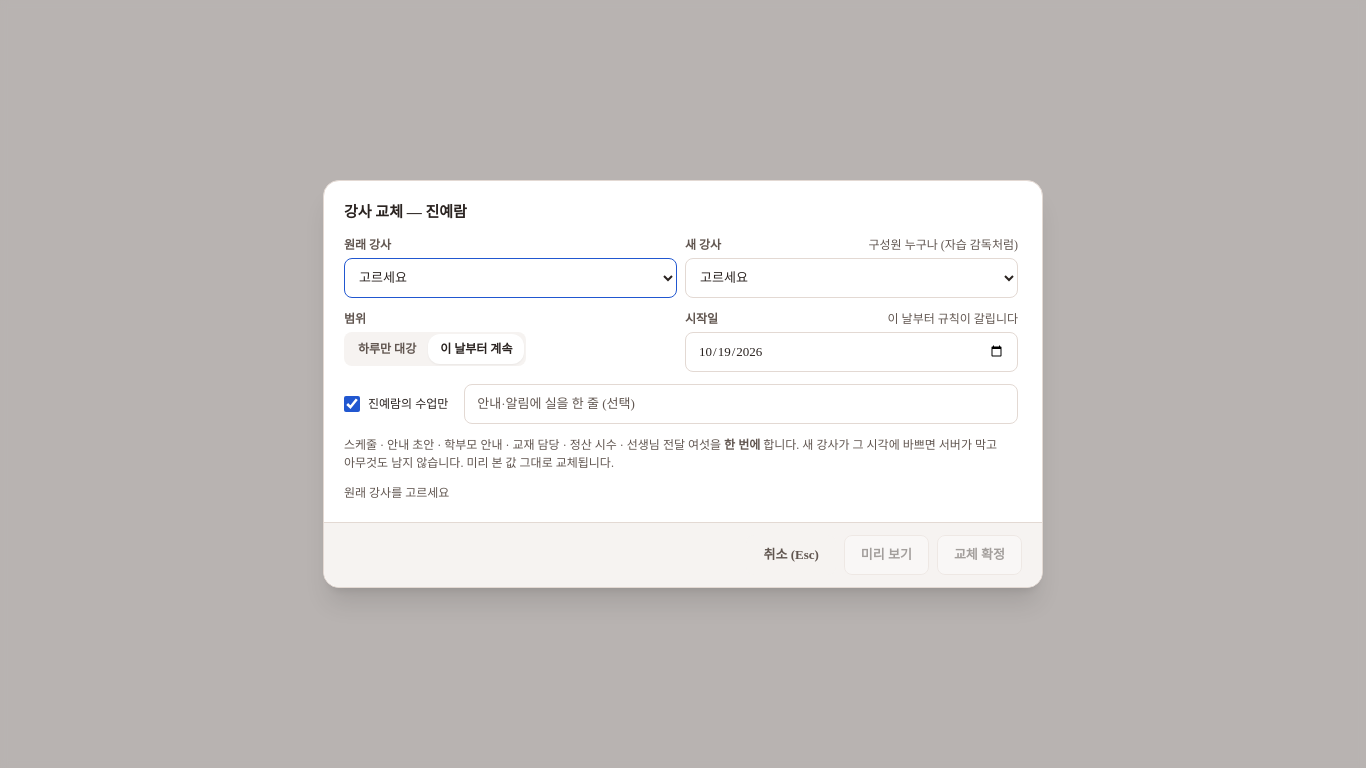
Test case: 하루만 대강은 날짜 하나로 보내고, 겹치면 서버 문장을 그대로 띄운 뒤 아는 수업으로 「누구와」를 한 번 묻는다 (N-132 · A-06)
This screenshot has width=1366, height=768.
Select "김재훈" in the dropdown labelled "원래 강사": (510, 278) 344,258 -> 677,298
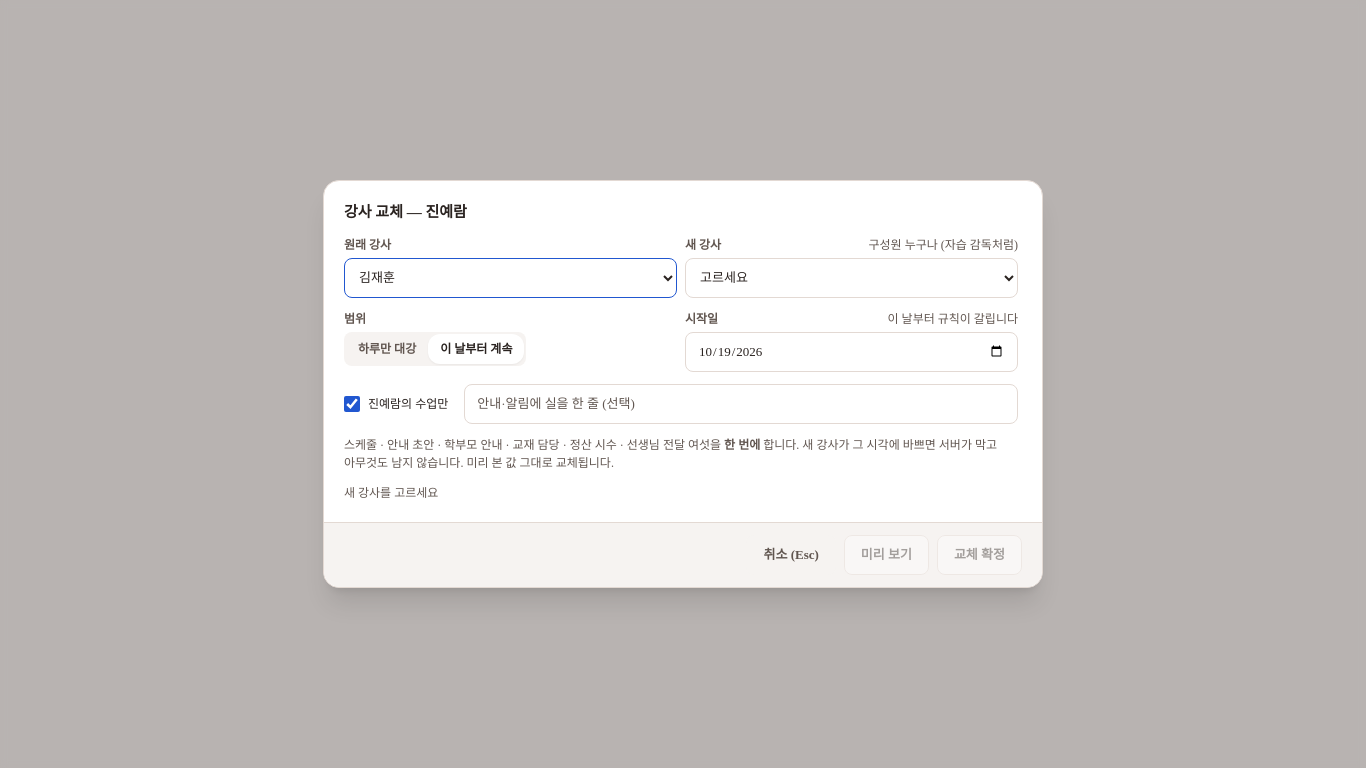
Select "김범준" in the dropdown labelled "새 강사": (852, 278) 685,258 -> 1018,298
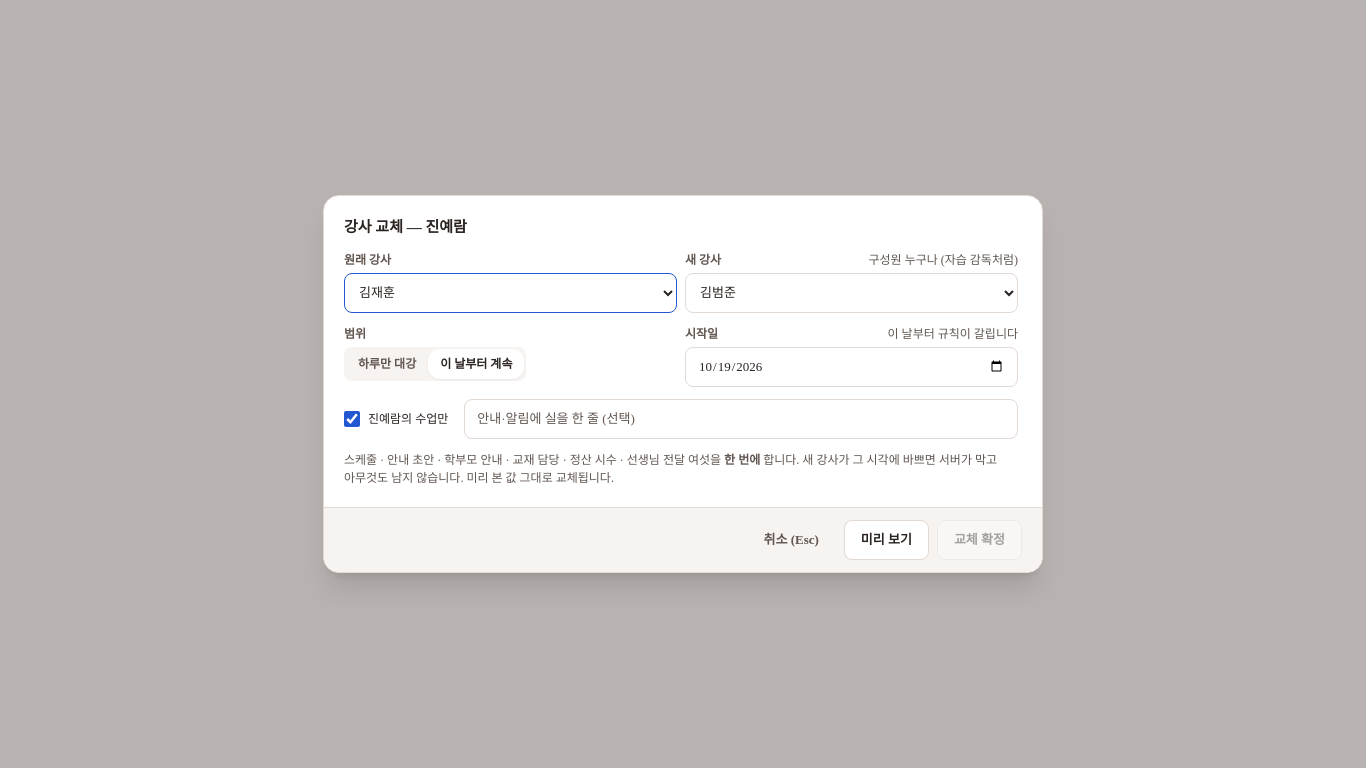
In the date field labelled "시작일": (852, 367) 685,347 -> 1018,387, type "2026-10-05"
Click the button "하루만 대강": (387, 364) 346,349 -> 428,379
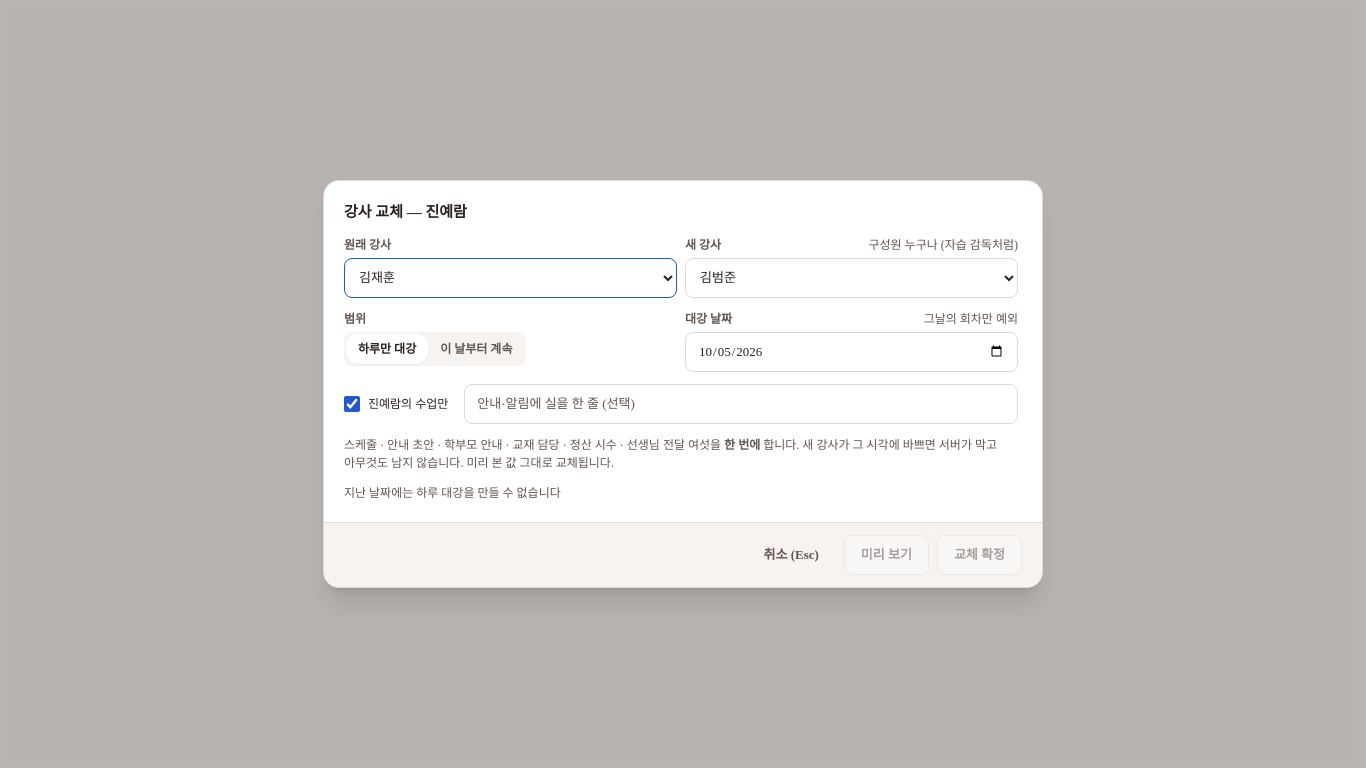
In the date field labelled "대강 날짜": (852, 352) 685,332 -> 1018,372, type "2026-10-19"
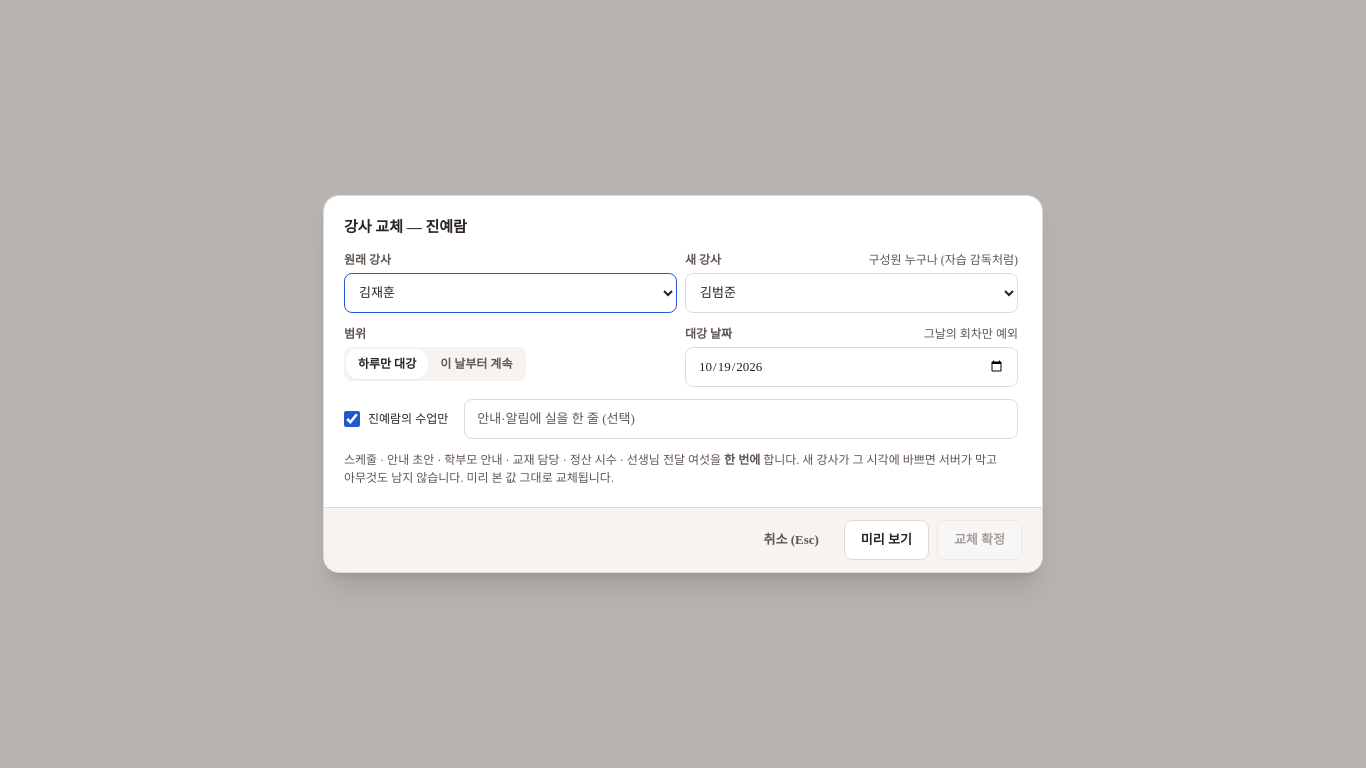
Click the button "미리 보기": (886, 540) 844,520 -> 929,560
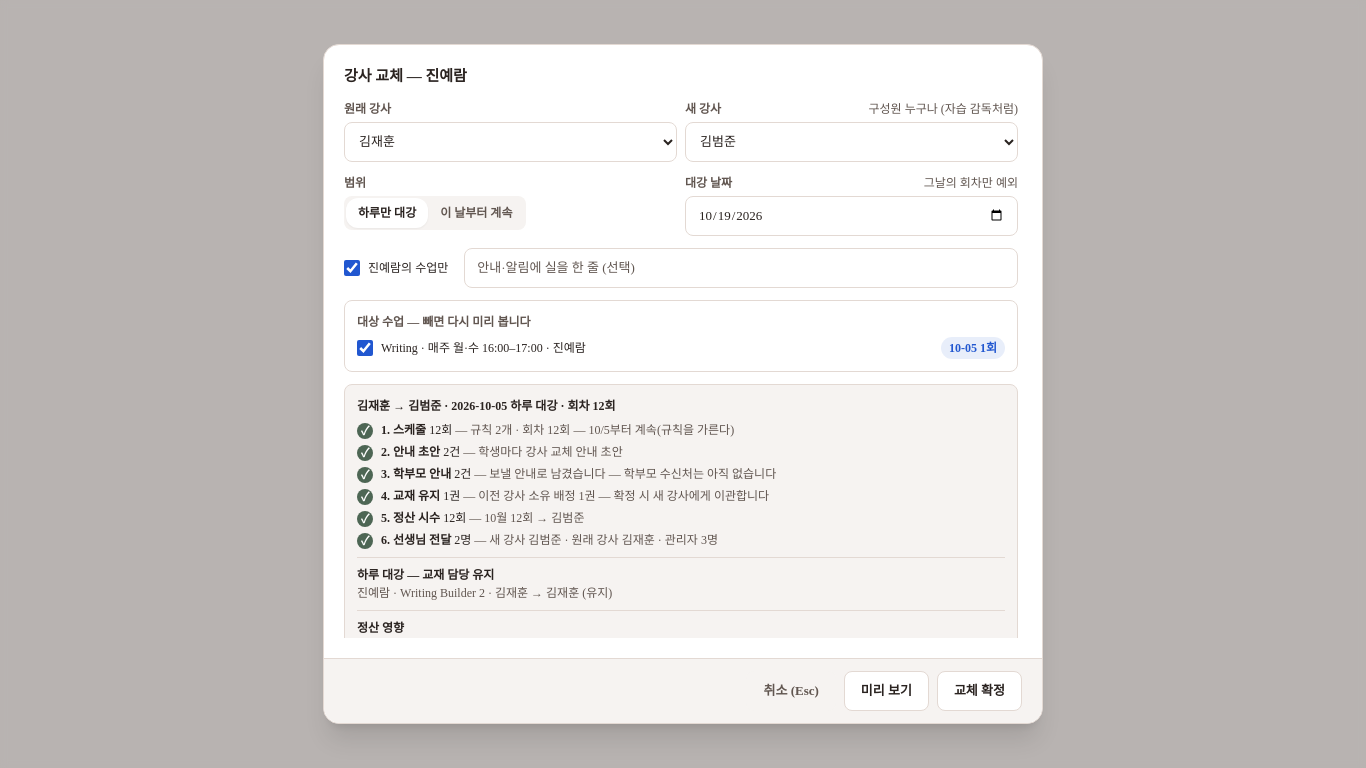
Expected: the element named "교체 미리보기" shows "하루 대강 — 교재 담당 유지", 357,568 -> 494,582
Expected: the element named "교체 미리보기" shows "Writing Builder 2 · 김재훈 → 김재훈 (유지)", 357,586 -> 612,600
In the field named "메모": (741, 268) 464,248 -> 1018,288, type "아침에 연락"
Click the button "미리 보기": (886, 690) 844,670 -> 929,710
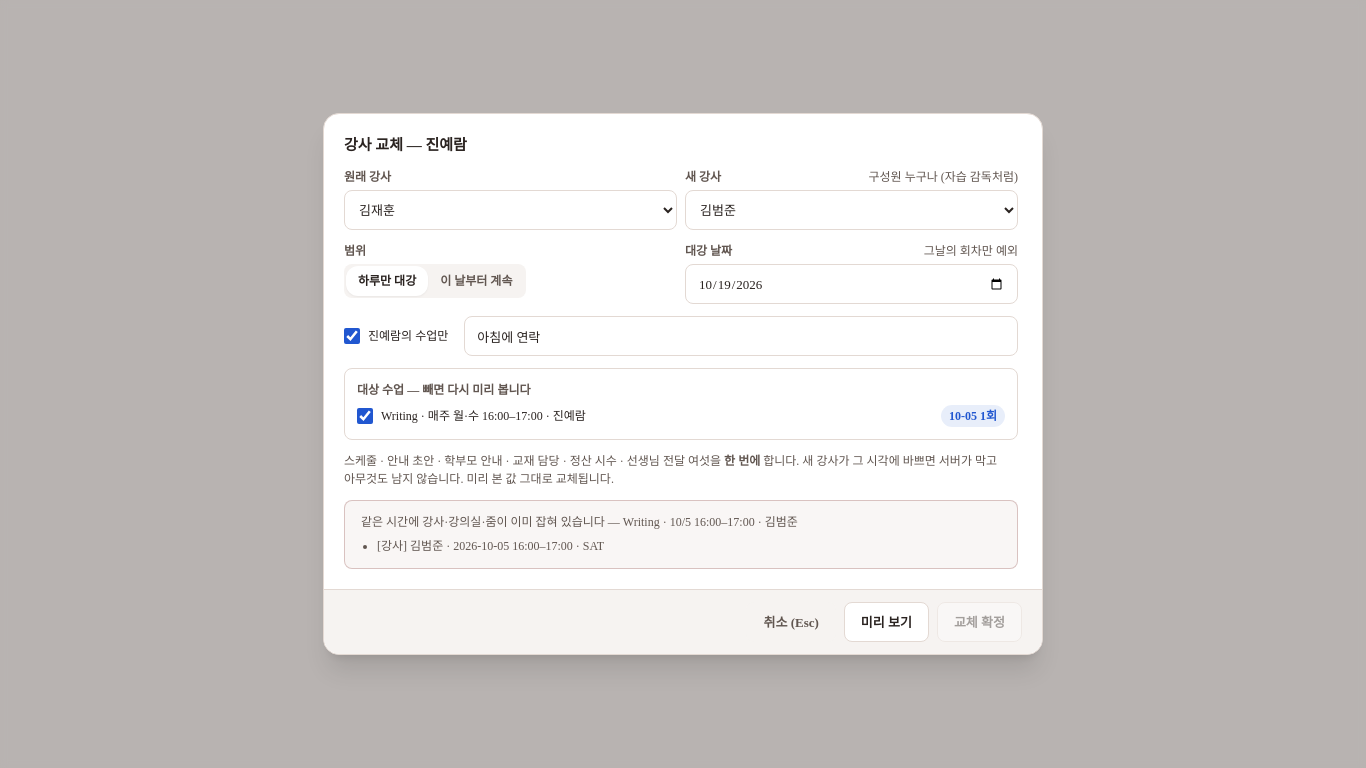
Expected: the button "교체 확정" is disabled, 937,602 -> 1022,642
Expected: the text "이미 잡혀 있습니다 — Writing" is shown, 361,515 -> 798,529
Expected: the list item "[강사] 김범준 · 2026-10-05 16:00–17:00 · SAT" is shown, 377,539 -> 604,553
